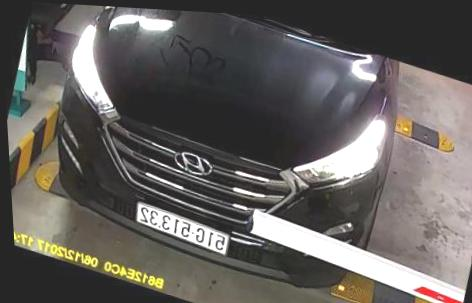License_Plate: (129, 198, 238, 260)
